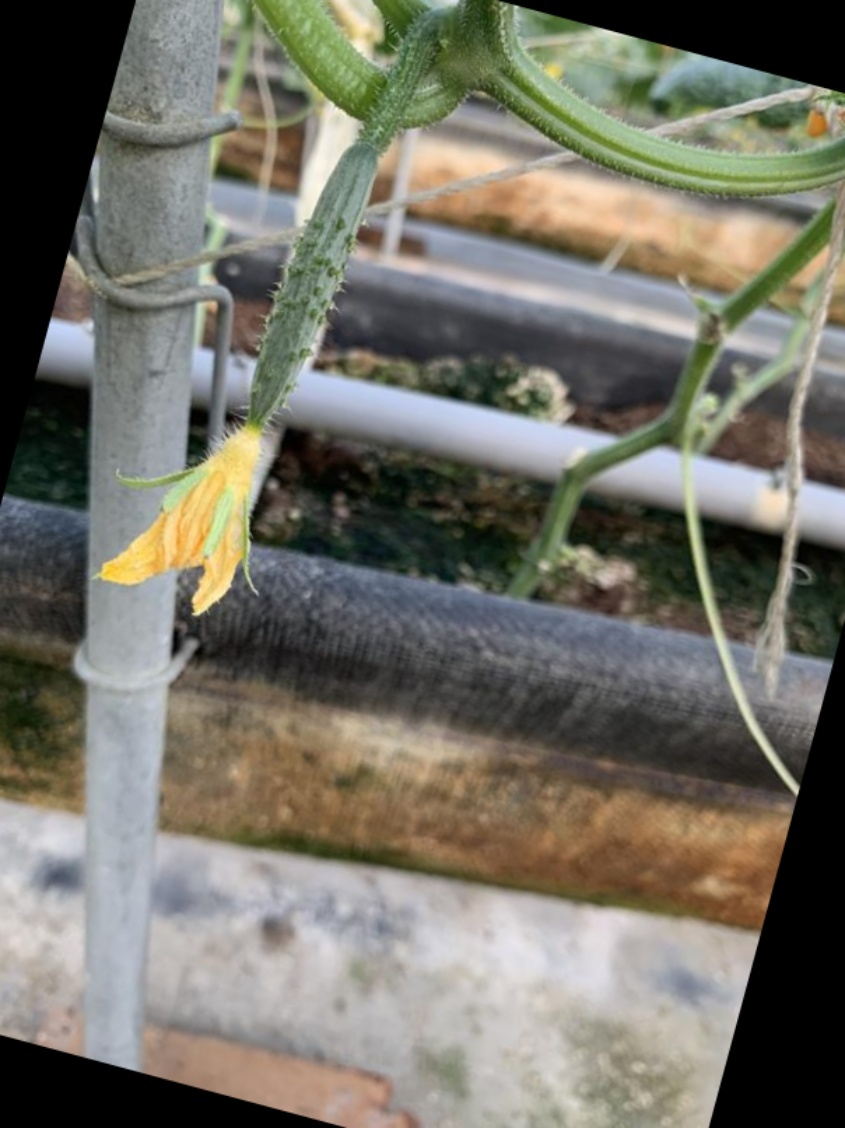bear: (93, 112, 408, 623)
